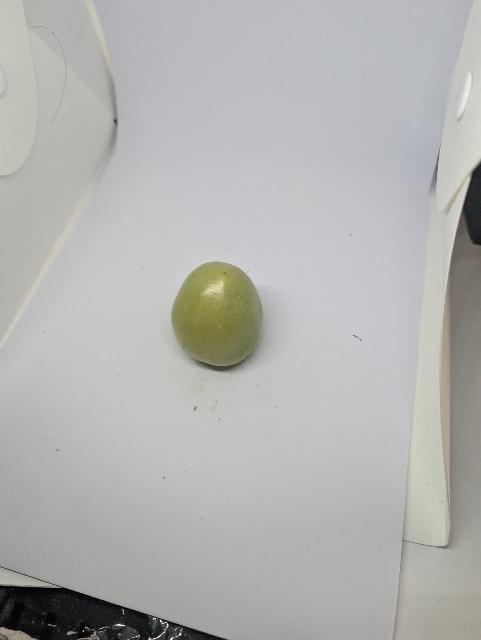green: (170, 258, 268, 370)
